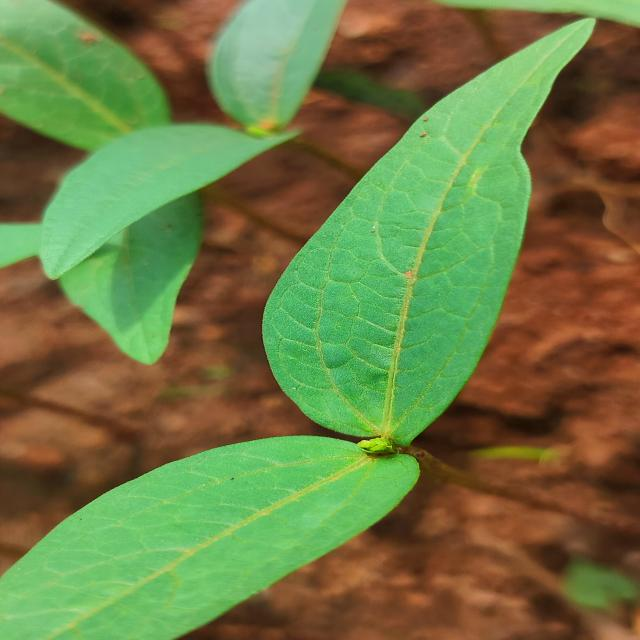Black gram_healthy: (258, 16, 596, 452), (35, 120, 265, 277)
